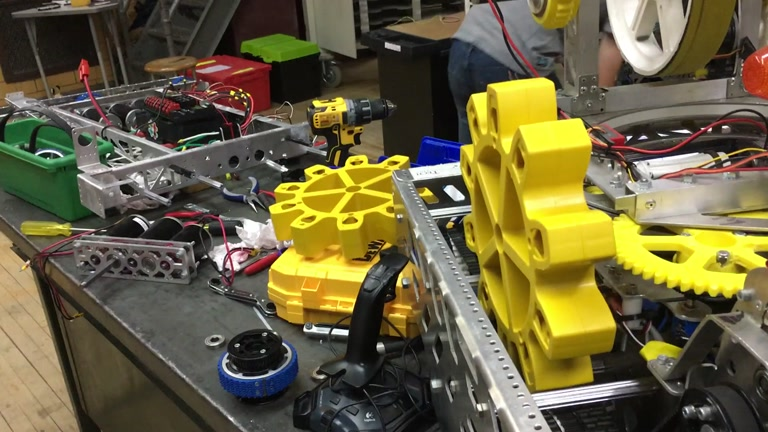gear: (459, 77, 616, 396), (268, 152, 445, 258)
